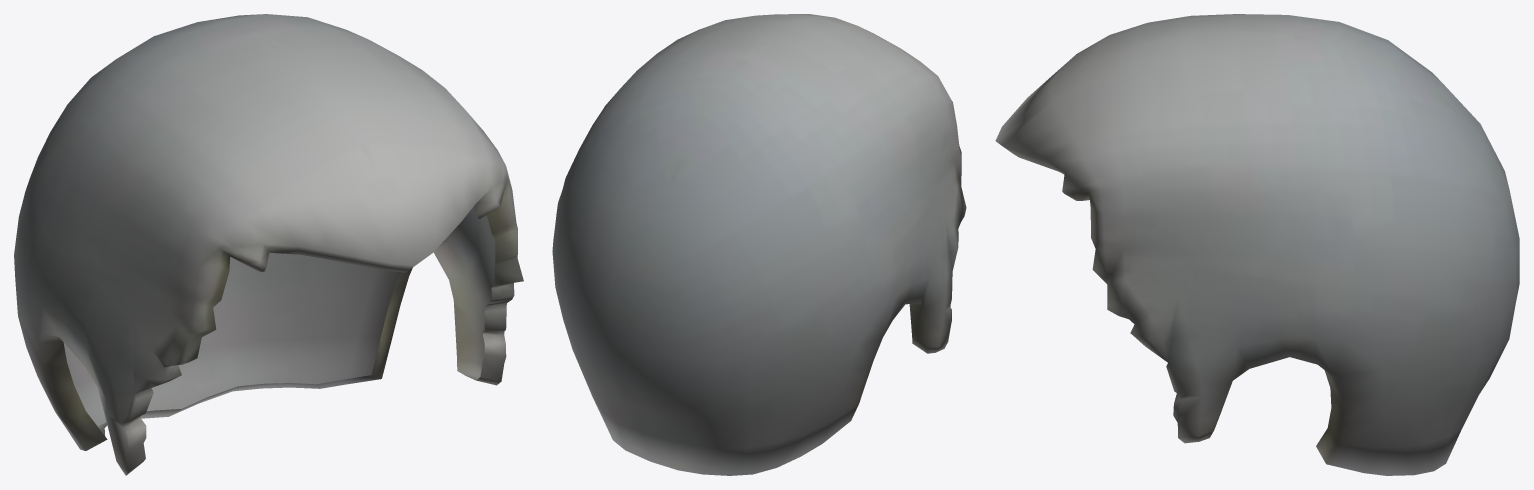
File: Hair_BuzzedFemale.glb
3 views of the same model, side by side, from view 1: azimuth 30°, elevation 25°; view 2: azimuth 150°, elevation 25°; view 3: azimuth 270°, elevation 25° (orthographic). The views are drawn at different scales.
Visible parts, largest first — view 1: Hair_BuzzedFemale; view 2: Hair_BuzzedFemale; view 3: Hair_BuzzedFemale.
Part boxes in pixels (x1,y1,x2,y2): Hair_BuzzedFemale: (14,14,523,475); Hair_BuzzedFemale: (552,14,966,475); Hair_BuzzedFemale: (995,14,1519,475).
Size of the model in its own units: 0.1587 by 0.1702 by 0.1976.
Materials: 1 (1 with a texture image).
